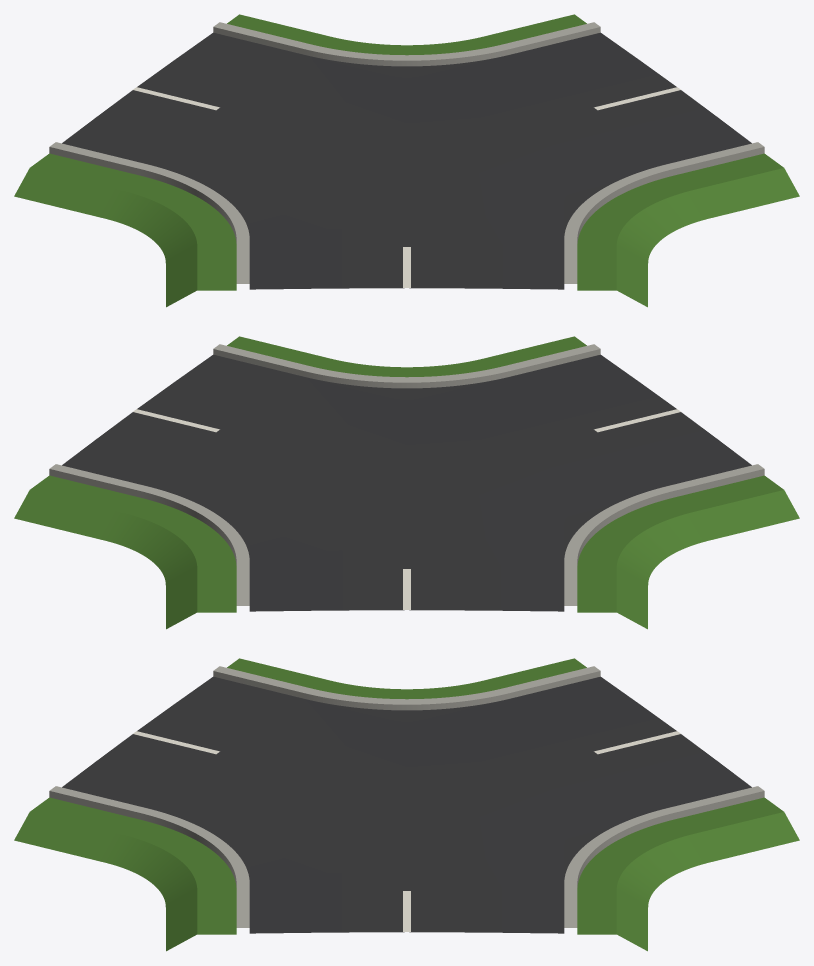
Rendered from road_junction_center.glb.
3 views of the same model, one above another, from view 1: azimuth 30°, elevation 25°; view 2: azimuth 150°, elevation 25°; view 3: azimuth 270°, elevation 25° (orthographic).
Visible parts, largest first — view 1: road_junction_center_lod0; view 2: road_junction_center_lod0; view 3: road_junction_center_lod0.
Part boxes in pixels (x1=…): road_junction_center_lod0: x1=14, y1=14, x2=799, y2=307; road_junction_center_lod0: x1=14, y1=336, x2=799, y2=629; road_junction_center_lod0: x1=14, y1=658, x2=799, y2=951.
Size of what is drawn, in the model's own units: 12.98 by 0.5 by 14.99.
